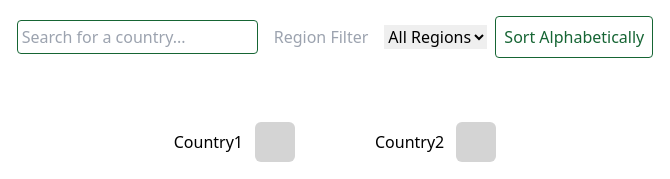
Test case: CountryList component tests: › should filter countries based on search query
The width and height of the screenshot is (670, 179).
expect the list item "Country1" is shown: met, box top-left (174, 130), bottom-right (243, 154)
expect the list item "Country2" is shown: met, box top-left (375, 130), bottom-right (444, 154)
Simulate search input
Step 1. Type "Country1" into the field with placeholder "Search for a country..." → x=137, y=37, box top-left (17, 20), bottom-right (258, 54)
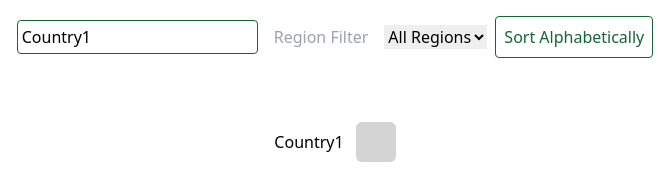
expect the list item "Country1" is shown: met, box top-left (274, 130), bottom-right (344, 154)
expect the link "Country2" is gone: met
